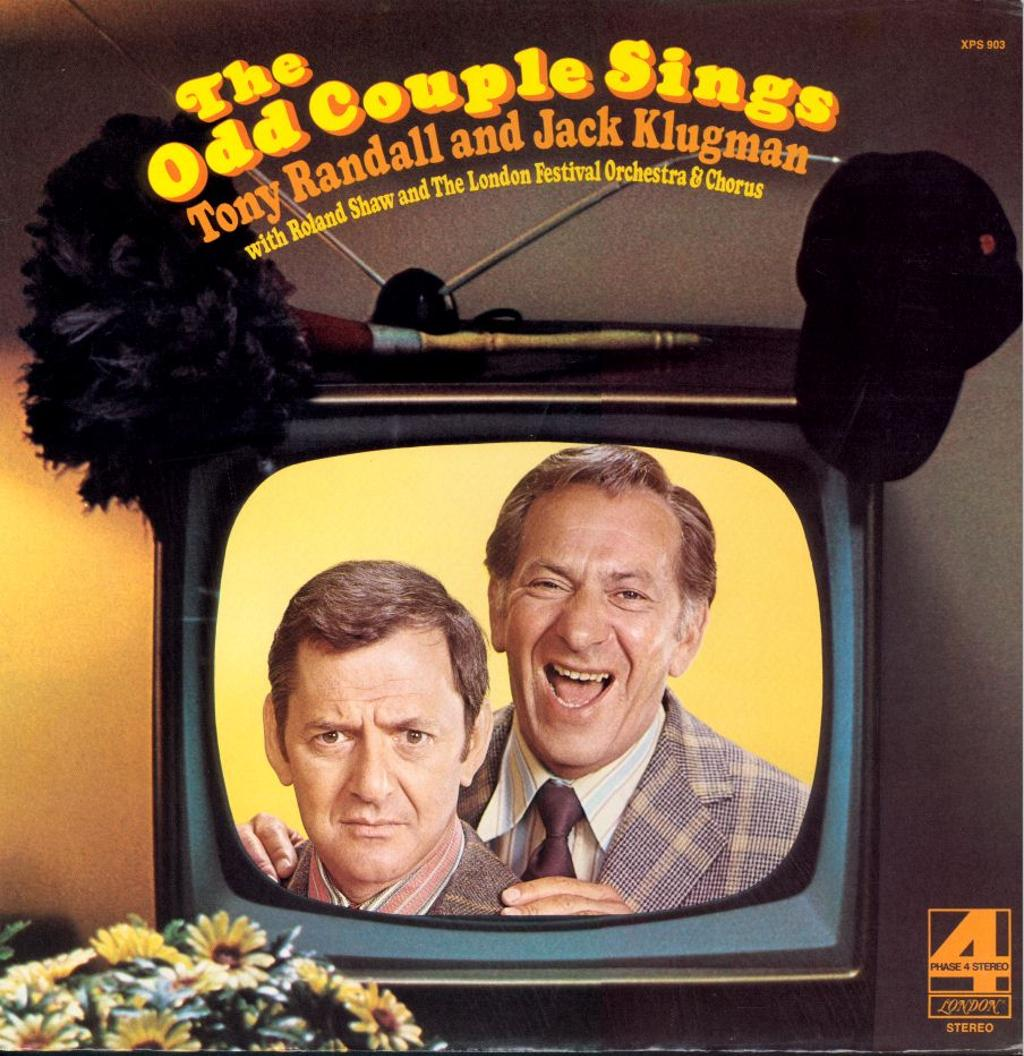face: (509, 490, 674, 760), (286, 641, 463, 882)
